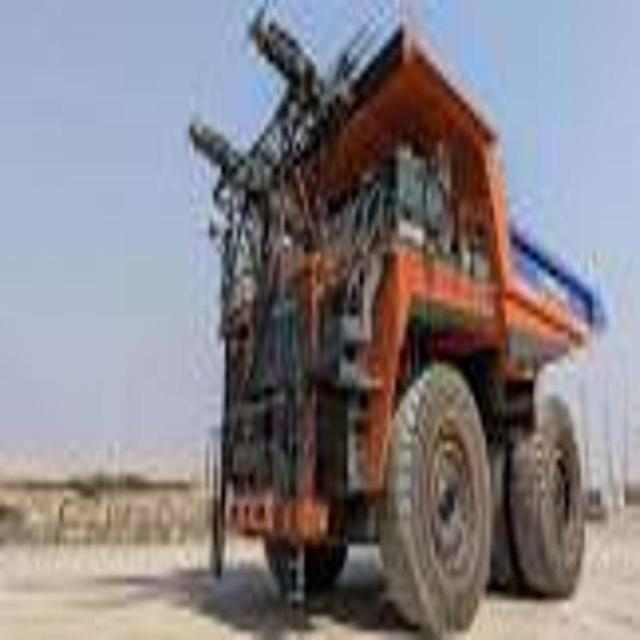dump_truck: (185, 16, 602, 640)
